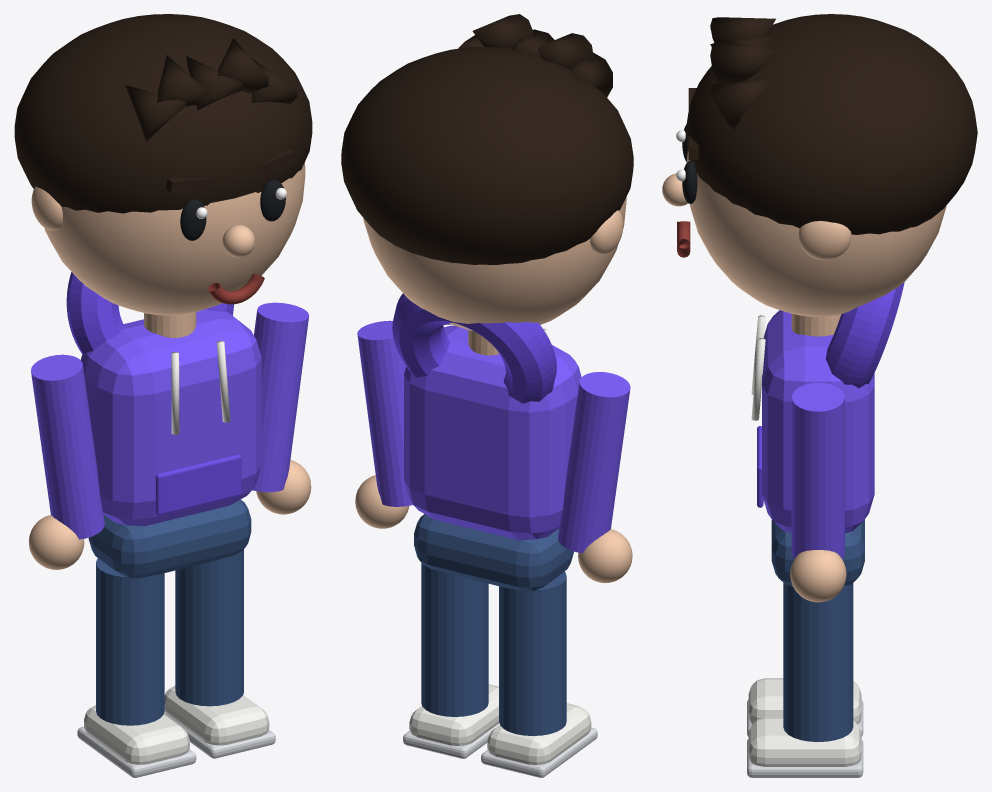
File: joven_sudadera.glb
The picture shows the model from 3 angles, left to right: view 1: azimuth 30°, elevation 25°; view 2: azimuth 150°, elevation 25°; view 3: azimuth 270°, elevation 25°; orthographic projection. The views are drawn at different scales.
Parts seen in each view (by area): view 1: Sphere.008, Cube.005, Sphere, brazo_i, Cylinder, Cylinder.001, brazo_d, Cube.004, Cube.006, Cube, Cube.002, Torus (+17 smaller); view 2: Sphere.008, Cube.005, Sphere, brazo_i, Cylinder, Cylinder.001, brazo_d, Torus, Cube.004, Cube, Cube.002, Cone.004 (+6 smaller); view 3: Sphere.008, Sphere, Cube.005, brazo_d, Cylinder.001, Torus, Cube.002, Cube.004, Cone.004, Cube, Sphere.004, Cone.002 (+5 smaller).
Part boxes in pixels (left/top/right/bottom): Sphere.008: left=14, top=14, right=312, bottom=213; Cube.005: left=80, top=309, right=261, bottom=526; Sphere: left=44, top=162, right=305, bottom=315; brazo_i: left=28, top=354, right=104, bottom=569; Cylinder: left=96, top=558, right=164, bottom=725; Cylinder.001: left=175, top=549, right=243, bottom=706; brazo_d: left=252, top=302, right=311, bottom=514; Cube.004: left=88, top=499, right=251, bottom=578; Cube.006: left=155, top=454, right=241, bottom=515; Cube: left=84, top=705, right=189, bottom=764; Cube.002: left=164, top=686, right=269, bottom=745; Torus: left=66, top=272, right=233, bottom=355; Sphere.008: left=341, top=46, right=633, bottom=264; Cube.005: left=404, top=325, right=581, bottom=540; Sphere: left=363, top=197, right=626, bottom=330; brazo_i: left=558, top=372, right=632, bottom=583; Cylinder: left=499, top=571, right=566, bottom=735; Cylinder.001: left=421, top=563, right=488, bottom=716; brazo_d: left=355, top=320, right=412, bottom=528; Torus: left=392, top=293, right=556, bottom=403; Cube.004: left=414, top=514, right=573, bottom=591; Cube: left=487, top=703, right=591, bottom=764; Cube.002: left=409, top=684, right=499, bottom=745; Cone.004: left=472, top=14, right=533, bottom=48; Sphere.008: left=685, top=14, right=977, bottom=234; Sphere: left=686, top=151, right=946, bottom=316; Cube.005: left=762, top=310, right=874, bottom=533; brazo_d: left=790, top=382, right=846, bottom=602; Cylinder.001: left=783, top=583, right=853, bottom=741; Torus: left=825, top=282, right=904, bottom=388; Cube.002: left=748, top=717, right=861, bottom=766; Cube.004: left=771, top=519, right=864, bottom=585; Cone.004: left=710, top=39, right=775, bottom=84; Cube: left=748, top=678, right=861, bottom=723; Sphere.004: left=798, top=221, right=851, bottom=260; Cone.002: left=710, top=79, right=775, bottom=129.
Size of the model in its own units: 0.97 by 2.37 by 0.95.
